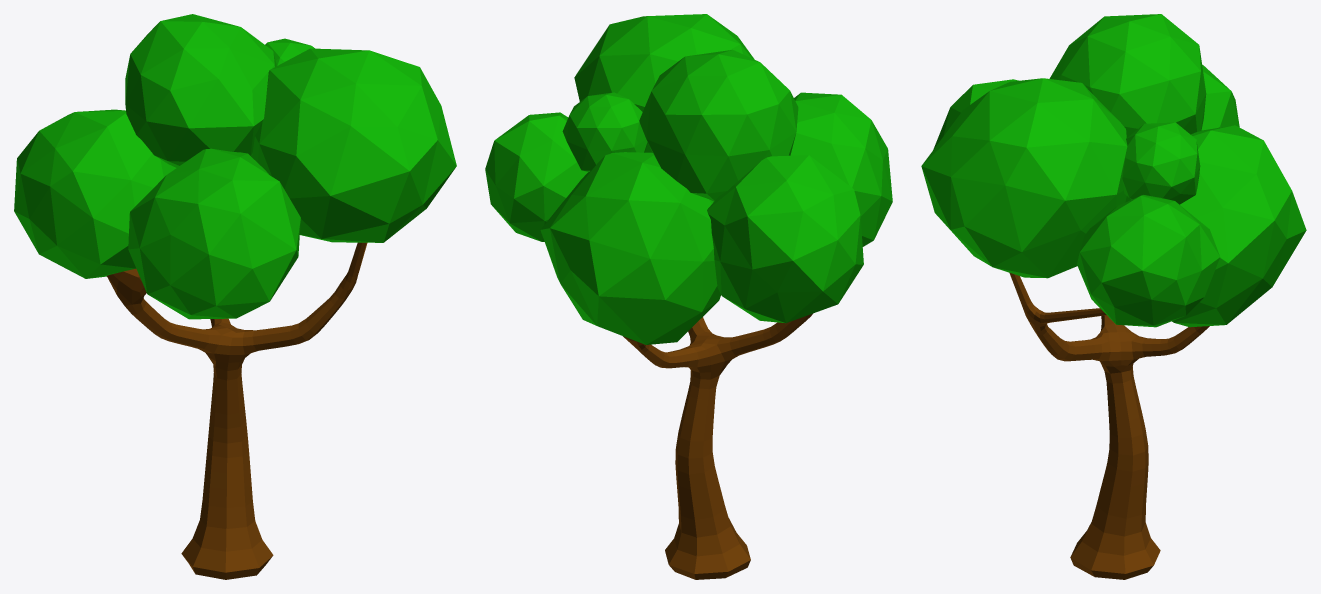
The model's file is tree1.fbx.
3 views of the same model, side by side, from view 1: azimuth 30°, elevation 25°; view 2: azimuth 150°, elevation 25°; view 3: azimuth 270°, elevation 25° (orthographic). The views are drawn at different scales.
Parts seen in each view (by area): view 1: Icosphere.006, Plane; view 2: Icosphere.006, Plane; view 3: Icosphere.006, Plane.
Boxes of the visible parts, x1,y1,x2,y2 form: Icosphere.006: (14, 14, 456, 319); Plane: (107, 242, 367, 579); Icosphere.006: (485, 14, 892, 344); Plane: (623, 313, 812, 579); Icosphere.006: (921, 14, 1306, 327); Plane: (1009, 273, 1209, 579).
Size of the model in its own units: 1045 by 1411 by 918.
